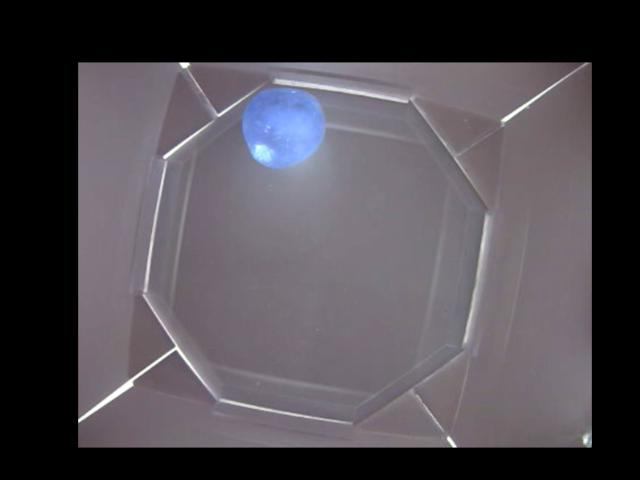Potato: (241, 88, 324, 168)
